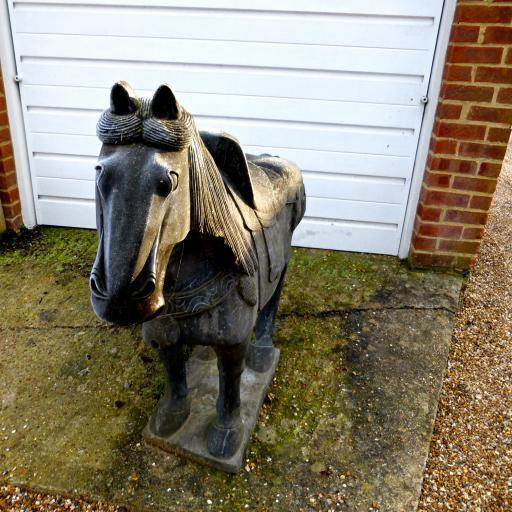horse: (88, 80, 308, 458)
